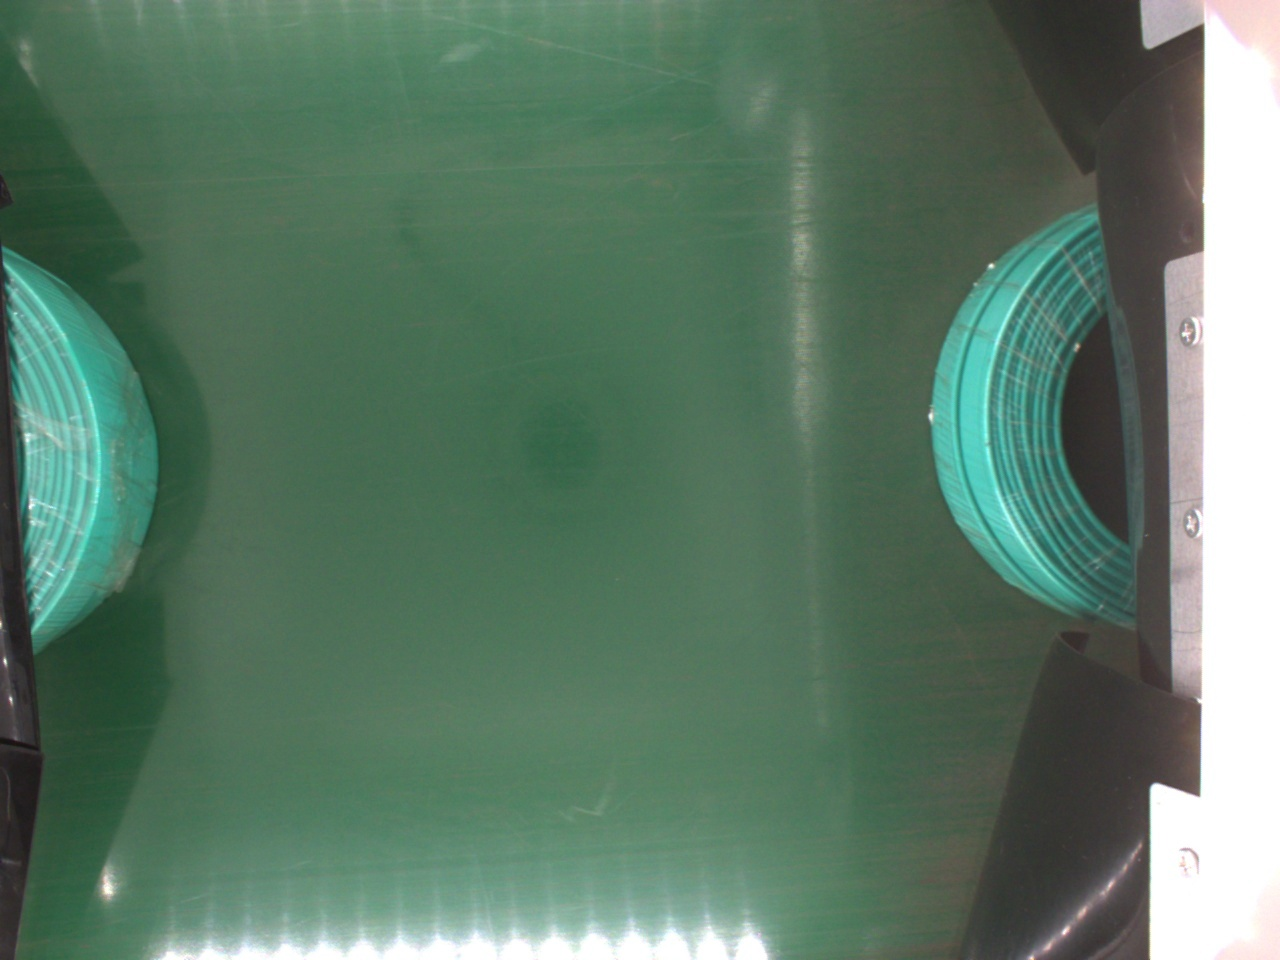green: (934, 213, 1141, 622), (3, 245, 153, 654)
